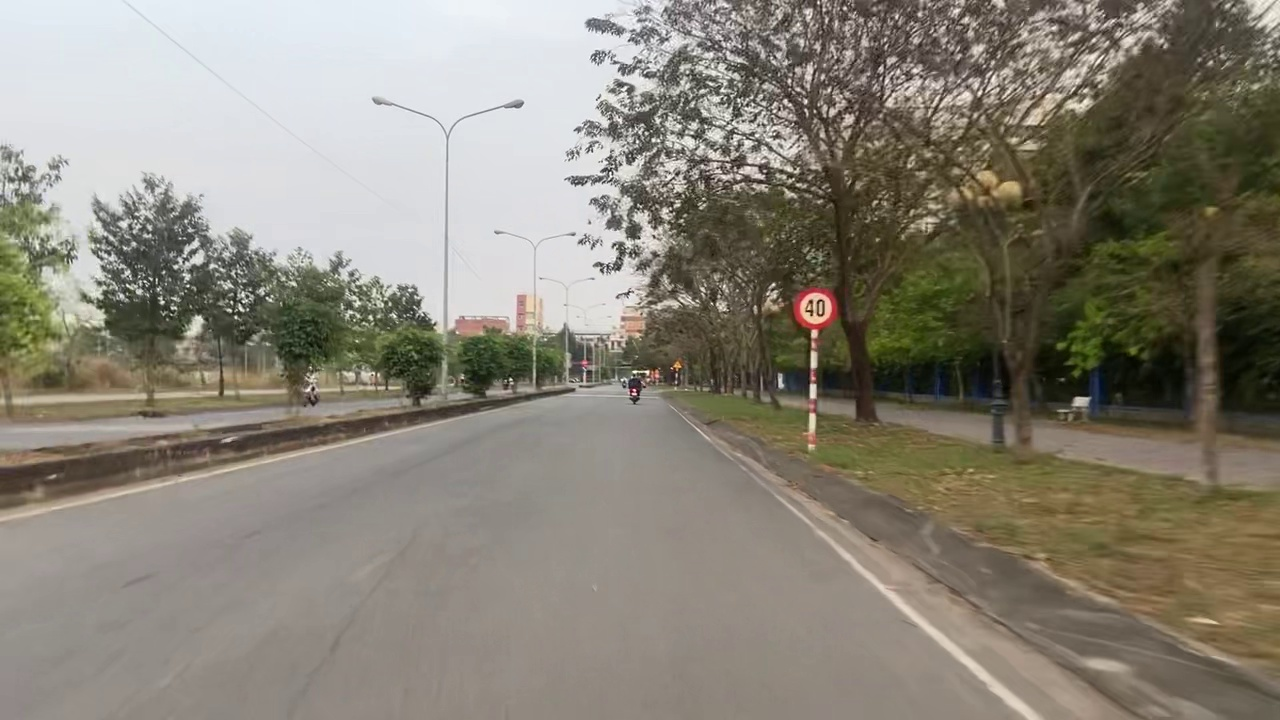gioi_han_40km: (792, 287, 839, 331)
